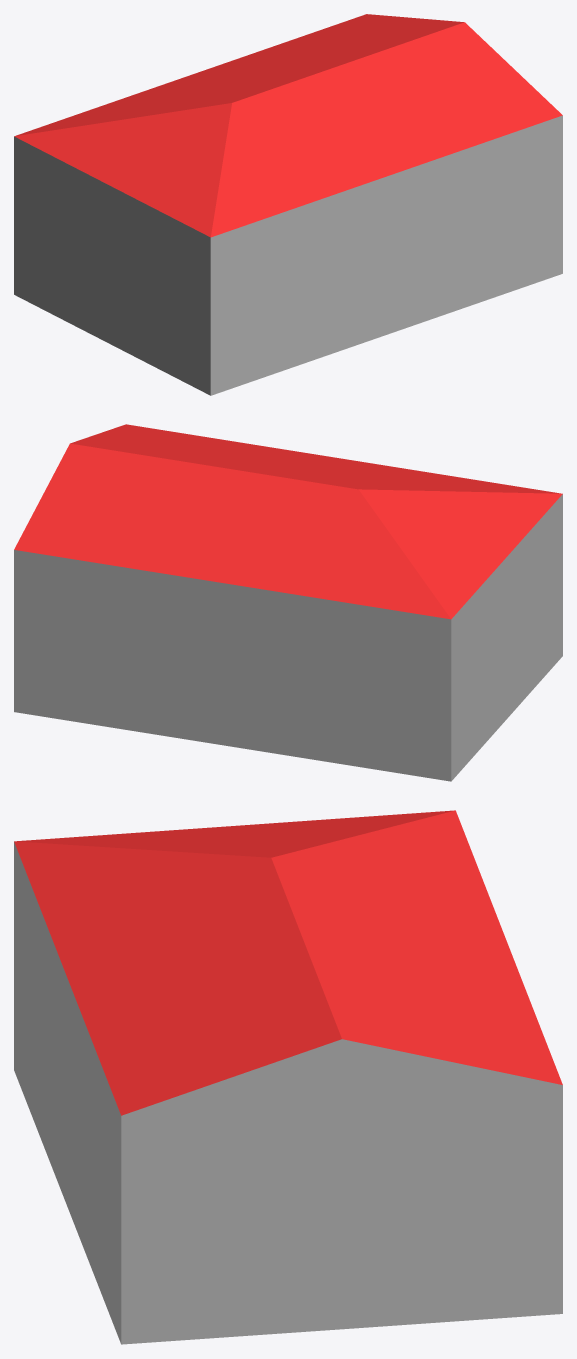
Rendered from DEBY_LOD2_4731261.dae.
The picture shows the model from 3 angles, top to bottom: view 1: azimuth 30°, elevation 25°; view 2: azimuth 150°, elevation 25°; view 3: azimuth 270°, elevation 25°; orthographic projection. The views are drawn at different scales.
Bounding box in the file's own units: 10.44 × 7.93 × 4.63.
